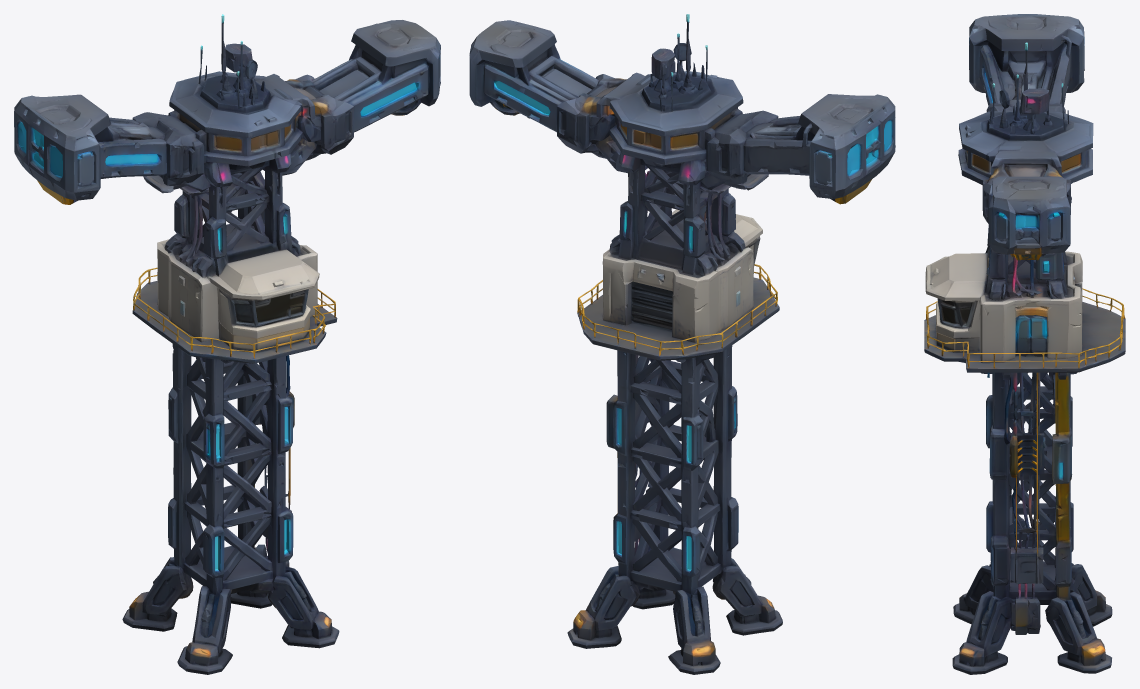
Rendered from source.glb.
3 renders of one model, left to right at view 1: azimuth 30°, elevation 25°; view 2: azimuth 150°, elevation 25°; view 3: azimuth 270°, elevation 25°, orthographic. The views are drawn at different scales.
Visible parts, largest first — view 1: model; view 2: model; view 3: model.
Boxes of the visible parts, left/top/right/bottom form: model: left=14, top=14, right=440, bottom=674; model: left=469, top=14, right=895, bottom=674; model: left=924, top=14, right=1125, bottom=674.
Bounding box in the file's own units: 1.27 × 1.9 × 0.5854.
1 material, 1 textured.
